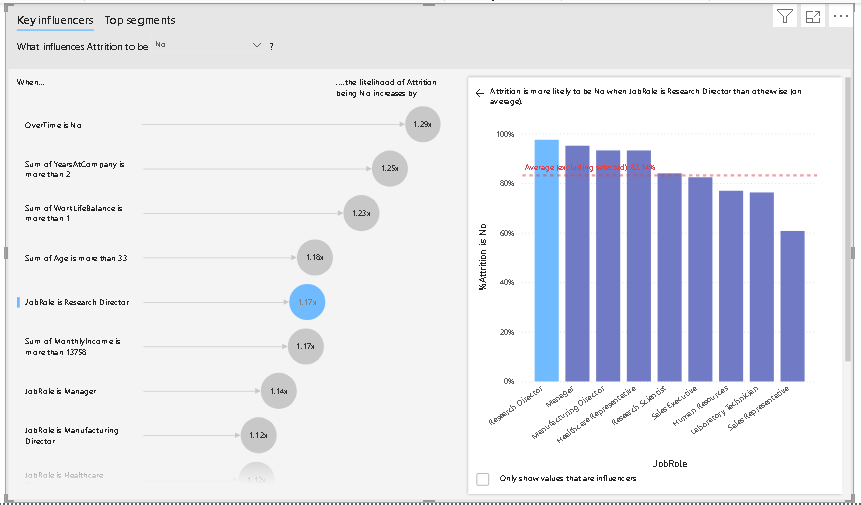

Layout of this report page (visuals, bound fields, positions):
{"tool":"powerbi","page":{"name":"Page 3","canvas":[1280,720],"ordinal":2},"visuals":[{"type":"keyDriversVisual","fields":{"ExplainBy":["HR_Analysis.OverTime","Sum(HR_Analysis.JobSatisfaction)","Sum(HR_Analysis.WorkLifeBalance)","Sum(HR_Analysis.YearsAtCompany)","Sum(HR_Analysis.DistanceFromHome)","Sum(HR_Analysis.Age)","HR_Analysis.JobRole","Sum(HR_Analysis.MonthlyIncome)"],"Target":["HR_Analysis.Attrition"]},"box":[27.4,0,1222.6,720],"z":0}]}

Visuals, with their boxes on the page's 1280x720 design canvas (x1, y1, x2, y2). These are canvas units, not pixel positions in the 861x505 screenshot, which may show the page scaled, cropped or inside an application window:
keyDriversVisual - HR_Analysis.OverTime x Sum(HR_Analysis.JobSatisfaction): pyautogui.locateOnScreen(27, 0, 1250, 720)
